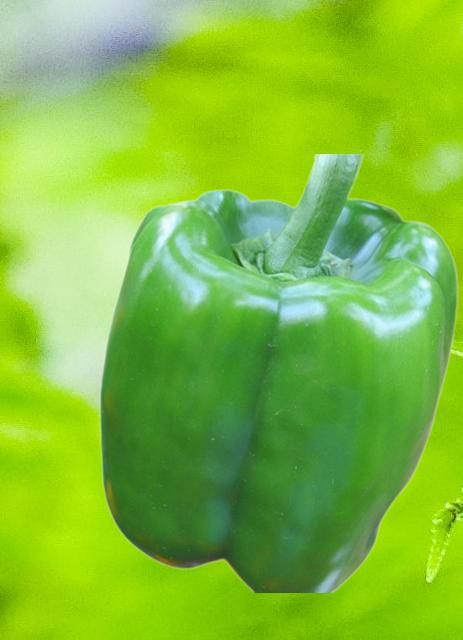bell_pepper: (98, 154, 457, 591)
